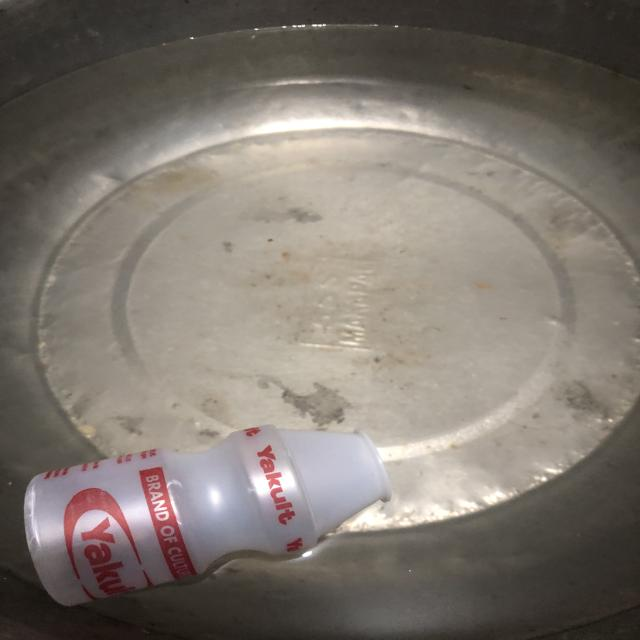Plastic Bottle: (21, 415, 394, 600)
